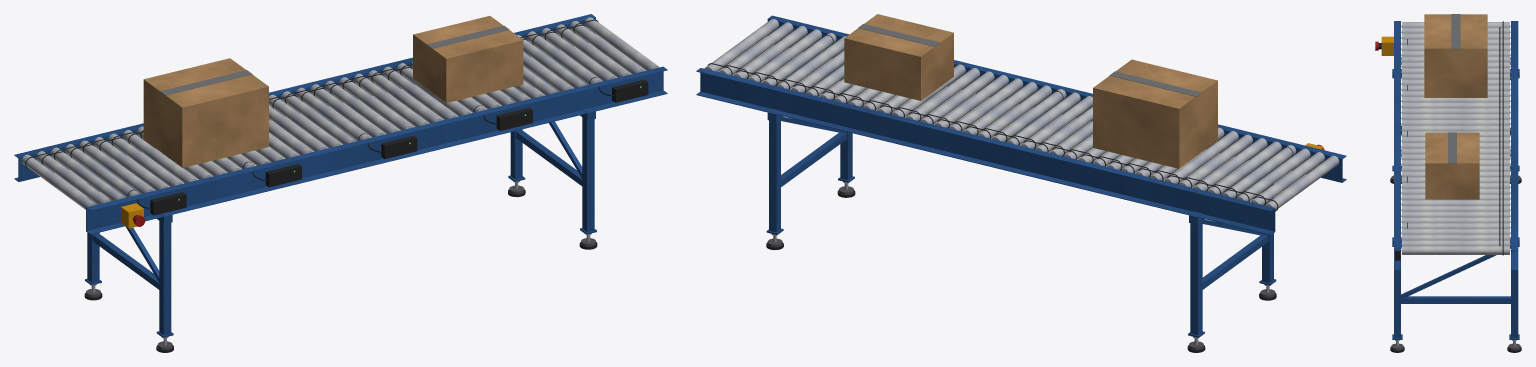
File: straight-roller-conveyor.glb
3 views of the same model, side by side, from view 1: azimuth 30°, elevation 25°; view 2: azimuth 150°, elevation 25°; view 3: azimuth 270°, elevation 25° (orthographic). The views are drawn at different scales.
Visible parts, largest first — view 1: Rollers, Cartons, Frame, Stands, Controllers, Drive bands, Feet, Controls; view 2: Rollers, Frame, Cartons, Stands, Drive bands, Feet; view 3: Rollers, Cartons, Frame, Stands, Drive bands, Feet, Controls.
Boxes of the visible parts, left/top/right/bottom form: Rollers: left=21, top=17, right=659, bottom=209; Cartons: left=143, top=16, right=523, bottom=167; Frame: left=14, top=14, right=667, bottom=234; Stands: left=85, top=66, right=596, bottom=337; Controllers: left=150, top=79, right=648, bottom=215; Drive bands: left=25, top=19, right=598, bottom=168; Feet: left=84, top=181, right=597, bottom=352; Controls: left=121, top=203, right=145, bottom=228; Rollers: left=704, top=19, right=1339, bottom=210; Frame: left=696, top=15, right=1346, bottom=235; Cartons: left=844, top=14, right=1217, bottom=168; Stands: left=766, top=64, right=1276, bottom=337; Drive bands: left=707, top=63, right=1278, bottom=211; Feet: left=766, top=181, right=1276, bottom=352; Rollers: left=1401, top=22, right=1510, bottom=254; Cartons: left=1424, top=14, right=1487, bottom=199; Frame: left=1394, top=21, right=1518, bottom=270; Stands: left=1392, top=69, right=1519, bottom=339; Drive bands: left=1499, top=21, right=1503, bottom=255; Feet: left=1390, top=175, right=1521, bottom=352; Controls: left=1375, top=36, right=1393, bottom=55.
Bounding box in the file's own units: 3 × 1.1 × 0.809.
Materials: 12 (12 with a texture image).
